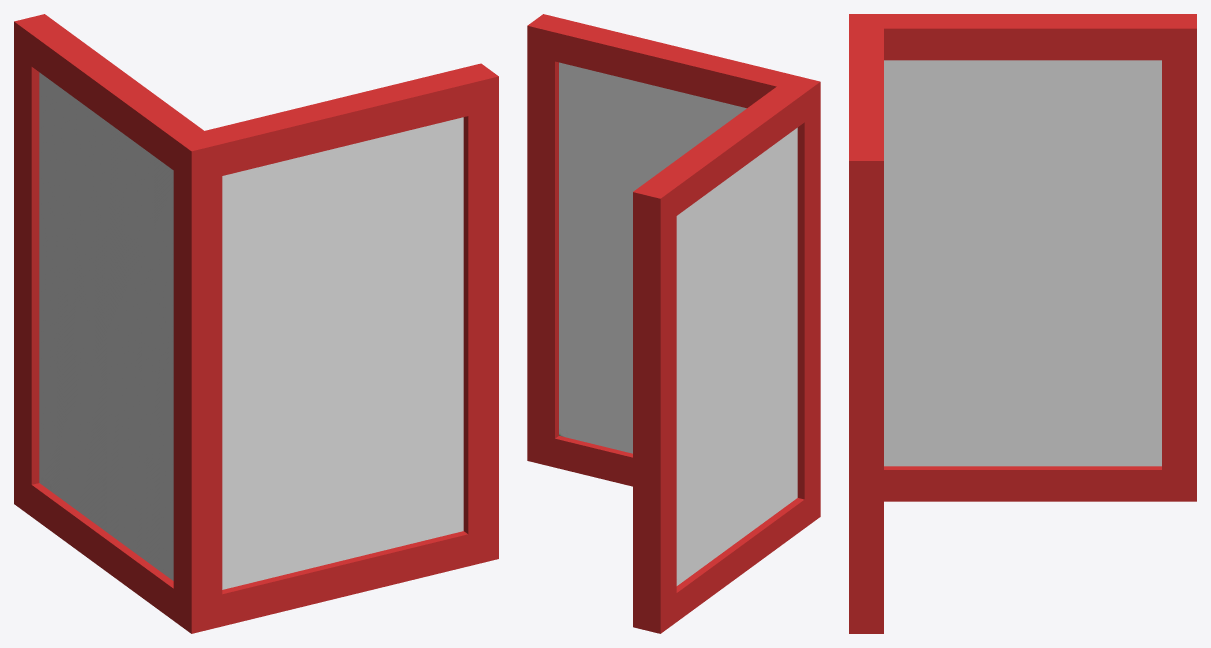
File: Cleptomaniac MarktMedia Window (Corner L).FBX
3 renders of one model, left to right at view 1: azimuth 30°, elevation 25°; view 2: azimuth 150°, elevation 25°; view 3: azimuth 270°, elevation 25°, orthographic. The views are drawn at different scales.
Visible parts, largest first — view 1: Window Corner L; view 2: Window Corner L; view 3: Window Corner L.
Boxes of the visible parts, left/top/right/bottom form: Window Corner L: left=14, top=14, right=498, bottom=633; Window Corner L: left=527, top=14, right=820, bottom=633; Window Corner L: left=849, top=14, right=1196, bottom=633.
Bounding box in the file's own units: 2 × 3 × 2.
